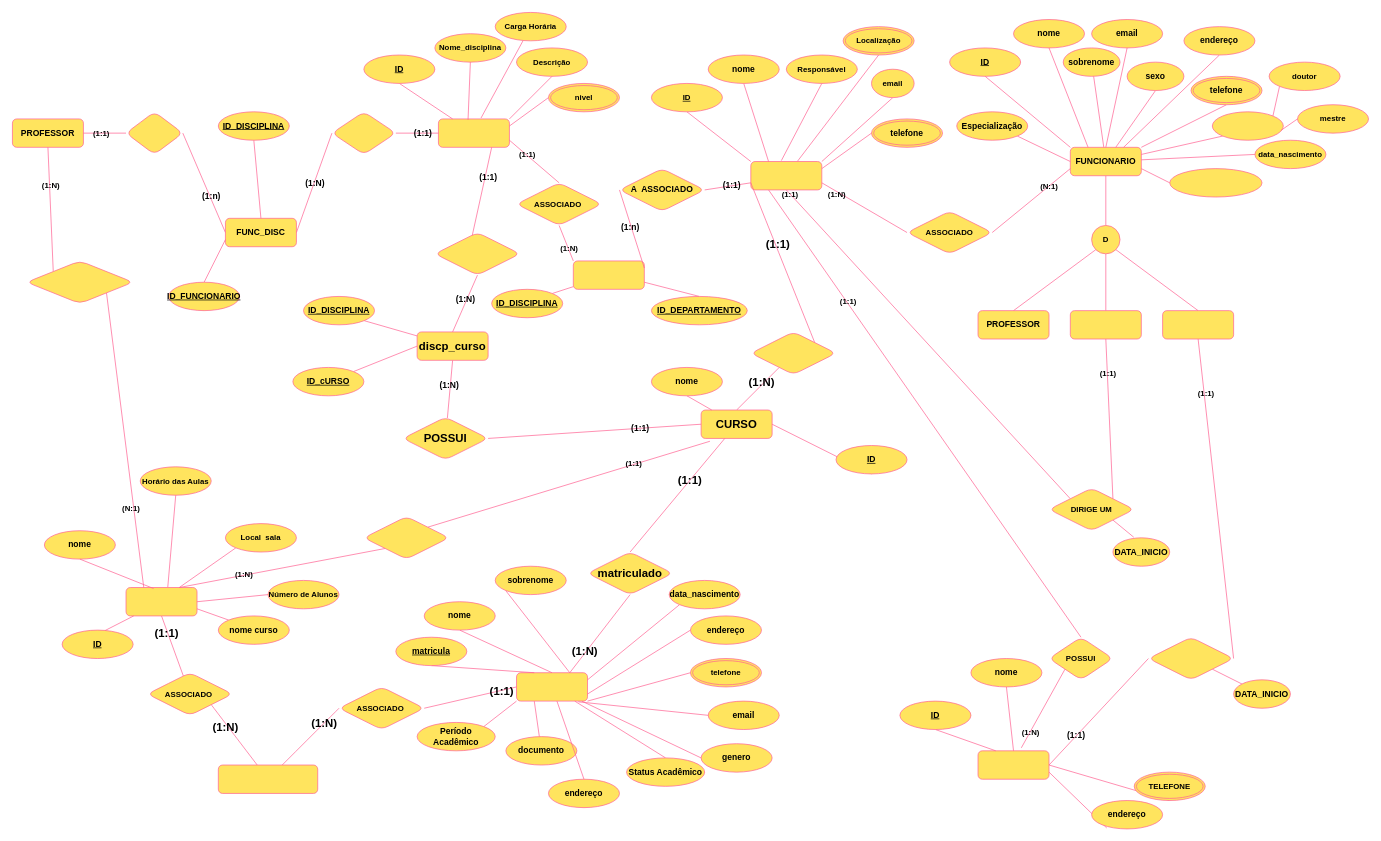
The diagram is 1381 pixels wide and 841 high, and some of its shapes have lost their labels. The centre of each missing label's shape, as x and y in pixels:
"ALUNO" goes at (x=552, y=686).
"ALUNO_TURMA" goes at (x=268, y=778).
"ASSOCIADA" goes at (x=406, y=537).
"controla" goes at (x=793, y=353).
"DEPARTAMENTO" goes at (x=786, y=175).
"DIRETOR" goes at (x=1105, y=324).
"DIRIGE UMA" goes at (x=1191, y=658).
"DISC_DEP" goes at (x=608, y=274).
"DISCIPLINA" goes at (x=473, y=132).
"E LECIONADA" goes at (x=363, y=132).
"FACULDADE" goes at (x=1013, y=764).
"Instituição_associado" goes at (x=1215, y=182).
"LECIONA" goes at (x=154, y=132).
"MINISTRA TURMA" goes at (x=79, y=282).
"pertence" goes at (x=477, y=253).
"REITOR" goes at (x=1198, y=324).
"TURMA" goes at (x=161, y=601).
"Título Acadêmico" goes at (x=1247, y=125).
